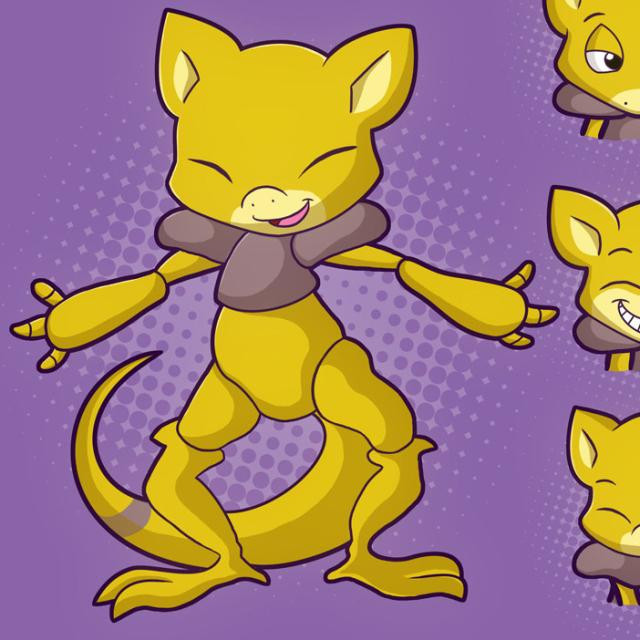Abra: (79, 10, 469, 611)
